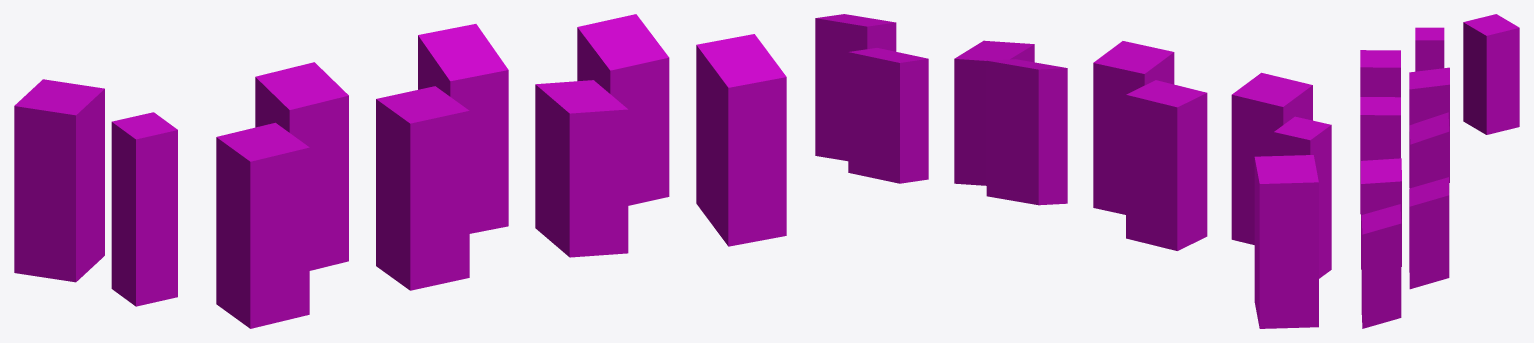
The model's file is M09_Z02_TeethBlock03.glb.
3 views of the same model, side by side, from view 1: azimuth 30°, elevation 25°; view 2: azimuth 150°, elevation 25°; view 3: azimuth 270°, elevation 25° (orthographic). The views are drawn at different scales.
Parts seen in each view (by area): view 1: M09_Z02_TEETHBLOCK03; view 2: M09_Z02_TEETHBLOCK03; view 3: M09_Z02_TEETHBLOCK03.
Part boxes in pixels (x1=…): M09_Z02_TEETHBLOCK03: x1=14, y1=14, x2=786, y2=328; M09_Z02_TEETHBLOCK03: x1=815, y1=14, x2=1331, y2=328; M09_Z02_TEETHBLOCK03: x1=1360, y1=14, x2=1519, y2=328.
Bounding box in the file's own units: 33.07 × 10.53 × 11.65.
